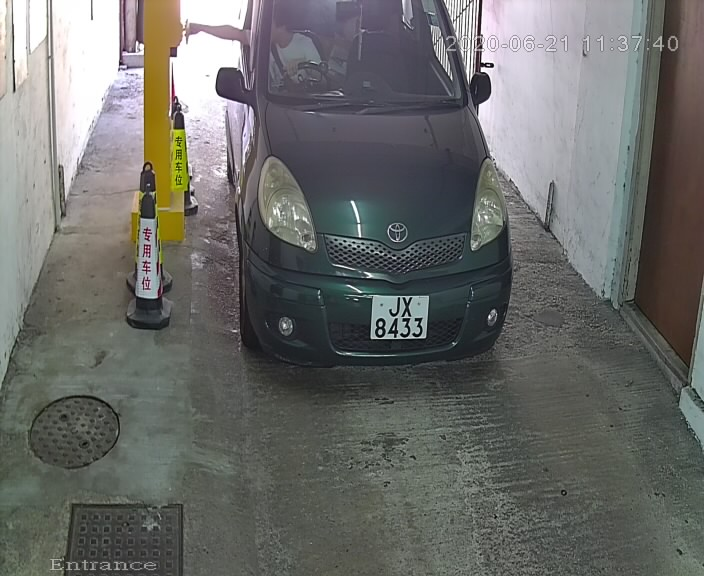privatecar: (207, 2, 528, 389)
